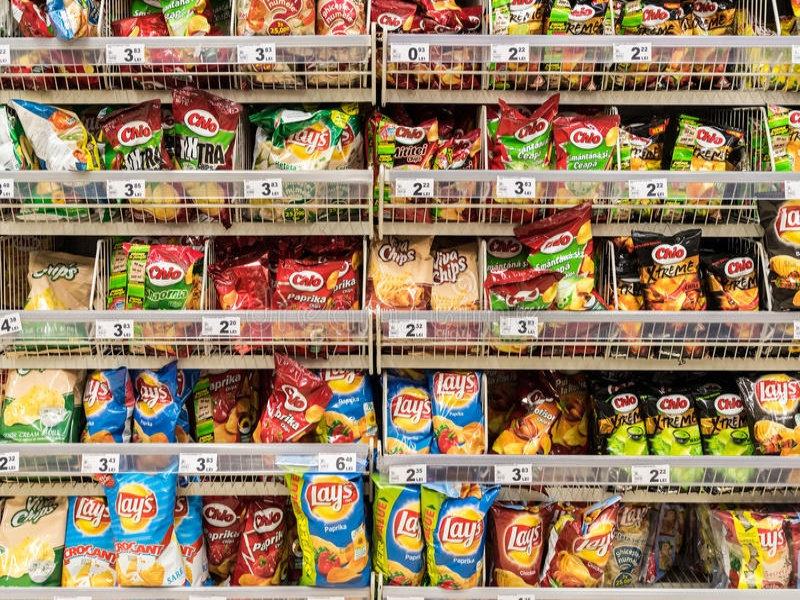chips: (96, 467, 187, 584), (282, 470, 372, 583), (418, 483, 489, 595), (630, 225, 708, 310), (551, 491, 615, 591), (424, 364, 487, 458), (489, 494, 546, 588), (377, 368, 436, 456), (233, 498, 290, 589), (130, 363, 187, 449)
